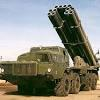MIL_SAM_TEL: (0, 4, 98, 95)
